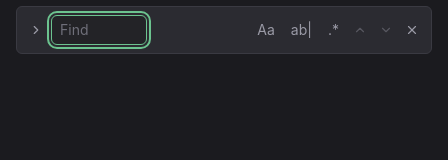
Test: FindBar (F-3.10) › follows the active editor, clearing the one it leaves
This screenshot has width=448, height=160.
Type "cat" into the field labelled "Find".
click(99, 30); type("cat")  # box [51,15,147,45]
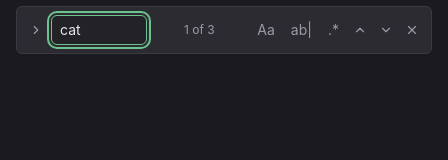
Expected: the message with test id "find-status" reads "1 of 3", [184,22,215,37]
